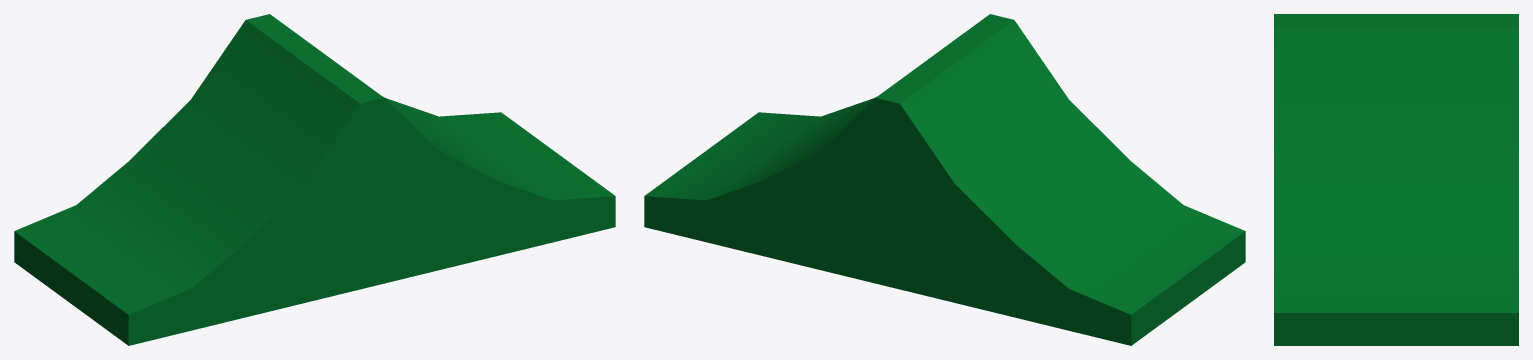
Rendered from basic_dpath.gltf.
3 views of the same model, side by side, from view 1: azimuth 30°, elevation 25°; view 2: azimuth 150°, elevation 25°; view 3: azimuth 270°, elevation 25° (orthographic). The views are drawn at different scales.
Visible parts, largest first — view 1: basic_duopath_glb; view 2: basic_duopath_glb; view 3: basic_duopath_glb.
Boxes of the visible parts, x1,y1,x2,y2 form: basic_duopath_glb: (14,14,615,345); basic_duopath_glb: (644,14,1245,345); basic_duopath_glb: (1274,14,1518,345).
Size of the model in its own units: 4 by 1.46 by 1.63.
Materials: 1 (1 with a texture image).
